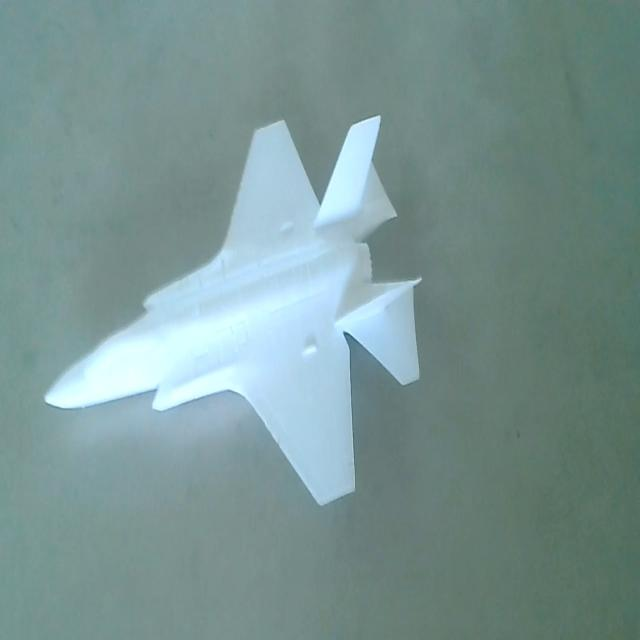Jet: (44, 106, 429, 513)
